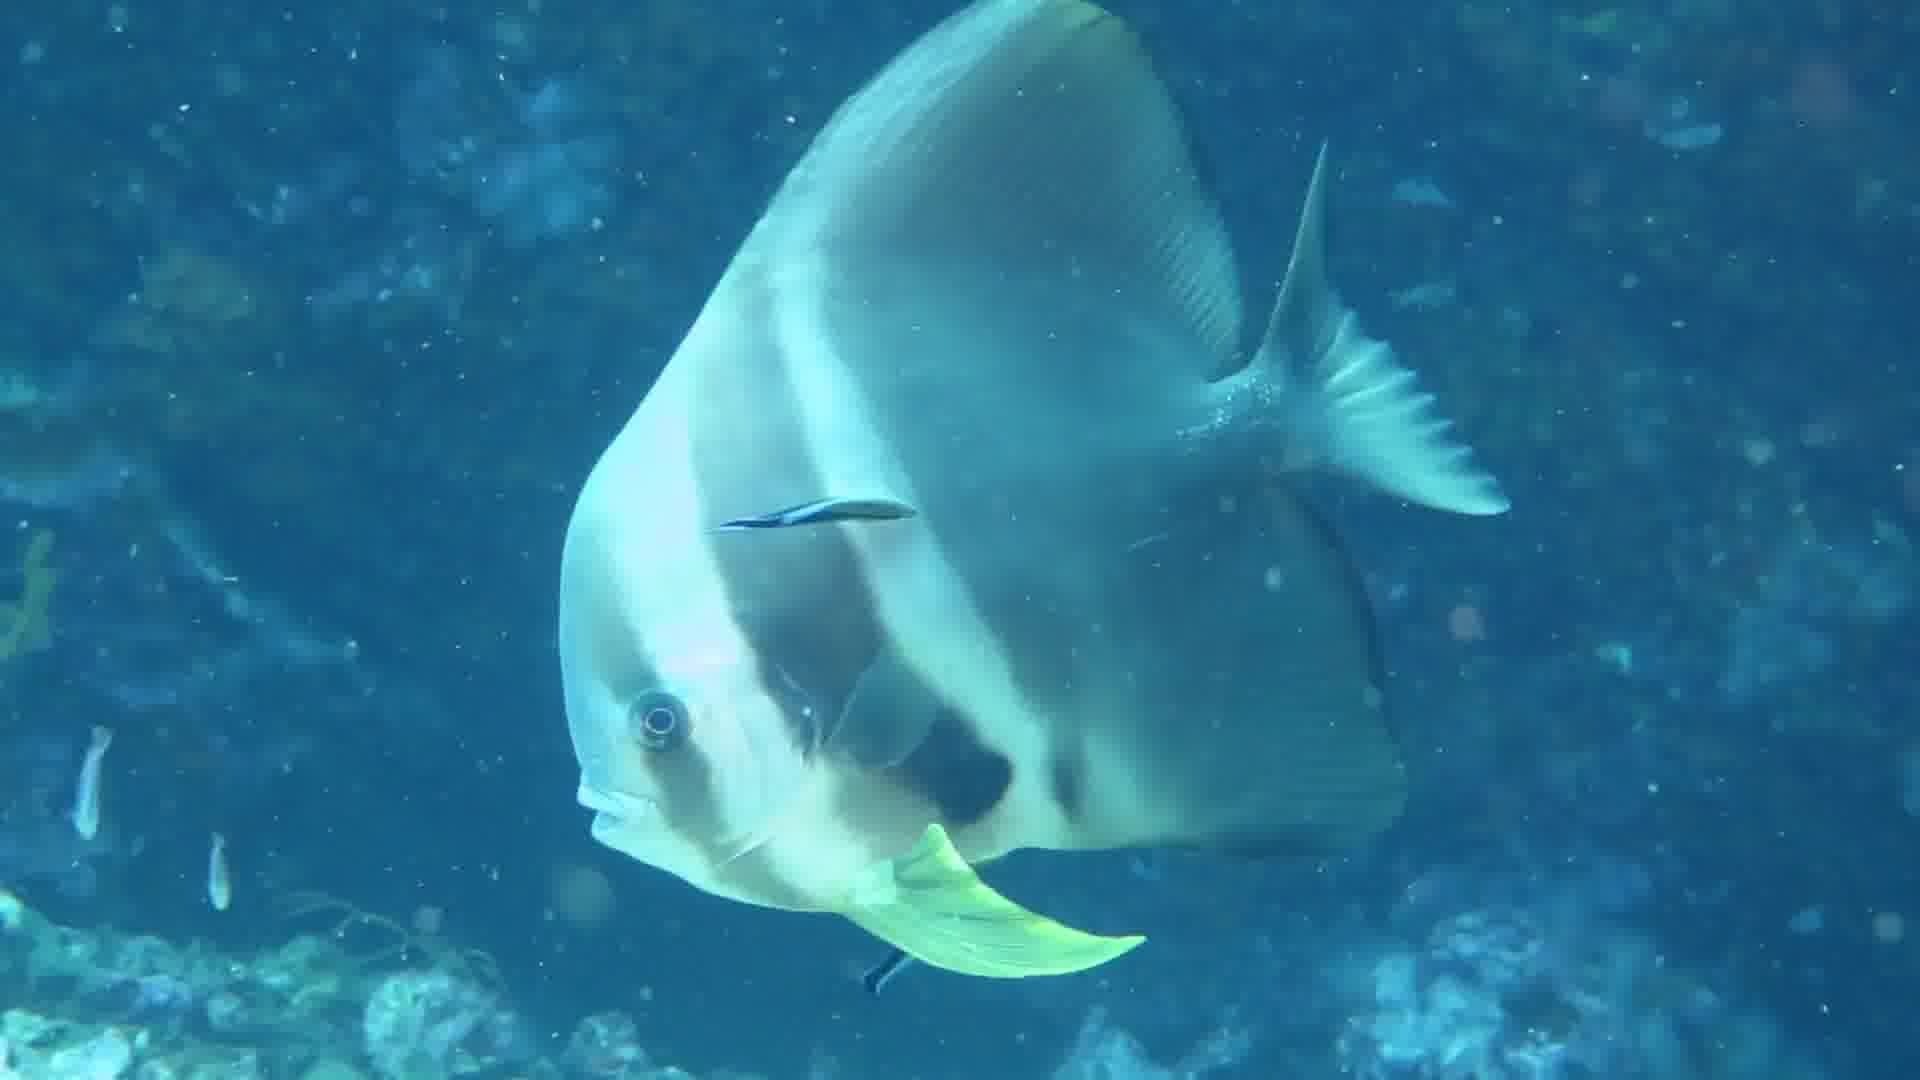Platax teira: (472, 1, 1553, 1014)
